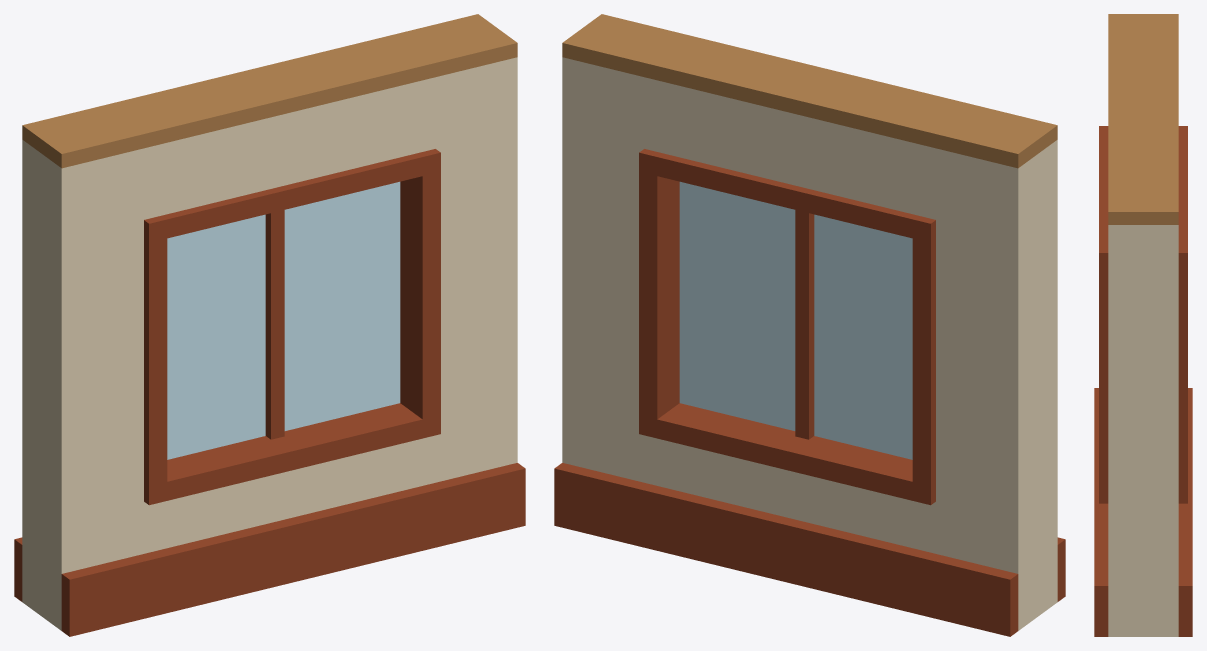
File: wall-window.glb
3 renders of one model, left to right at view 1: azimuth 30°, elevation 25°; view 2: azimuth 150°, elevation 25°; view 3: azimuth 270°, elevation 25°, orthographic. The views are drawn at different scales.
Visible parts, largest first — view 1: wall-window; view 2: wall-window; view 3: wall-window.
Boxes of the visible parts, x1,y1,x2,y2 form: wall-window: (14,14,525,636); wall-window: (554,14,1065,636); wall-window: (1094,14,1192,636).
Size of the model in its own units: 1 by 1 by 0.21.
Materials: 1 (1 with a texture image).
